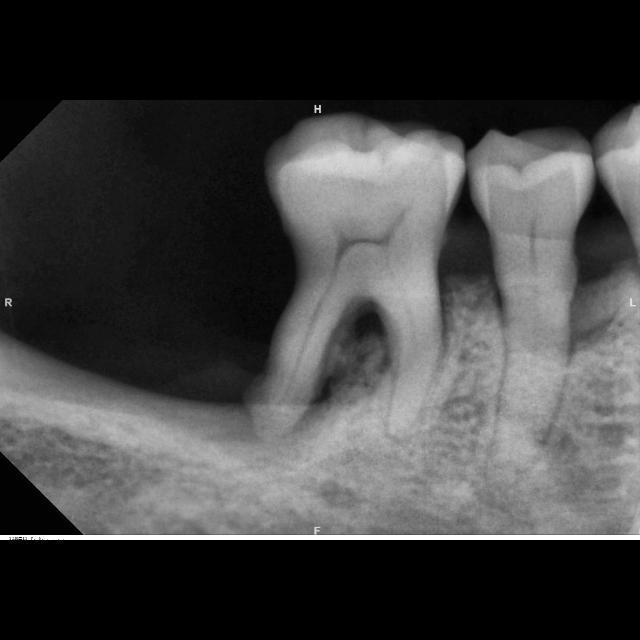tooth: (468, 131, 594, 501)
